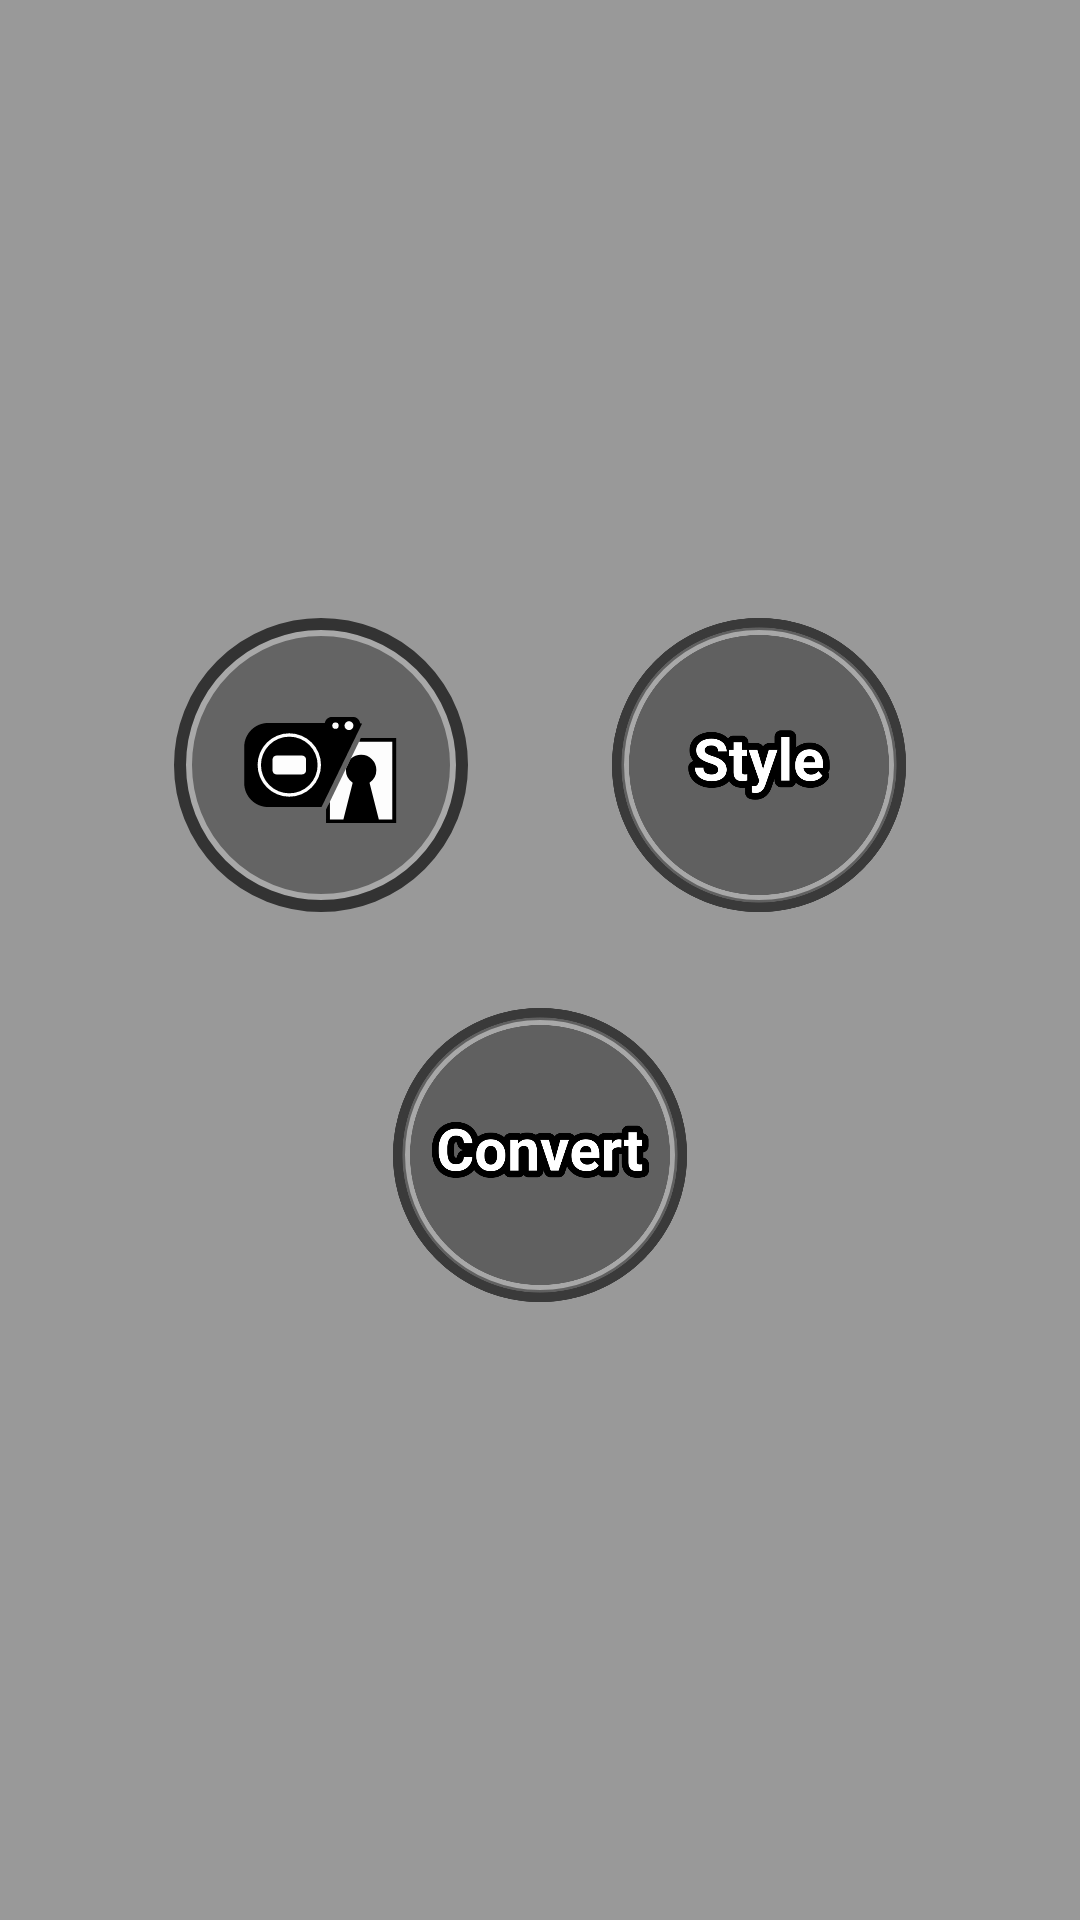

Where to tap for icons on this 1080px x 1920px app screen, as (x=x, y=y):
photo: (x=321, y=765)
